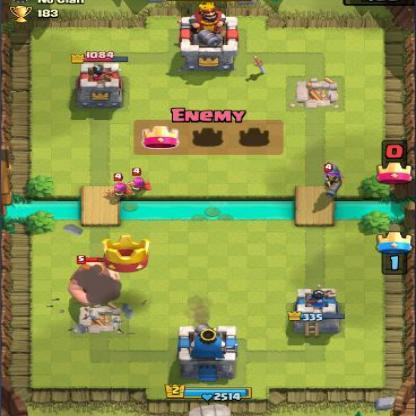EMiner: (124, 166, 153, 198), (104, 172, 130, 200)
ESkelBarrel: (66, 252, 124, 312)
OBigPekka: (317, 160, 344, 199)
